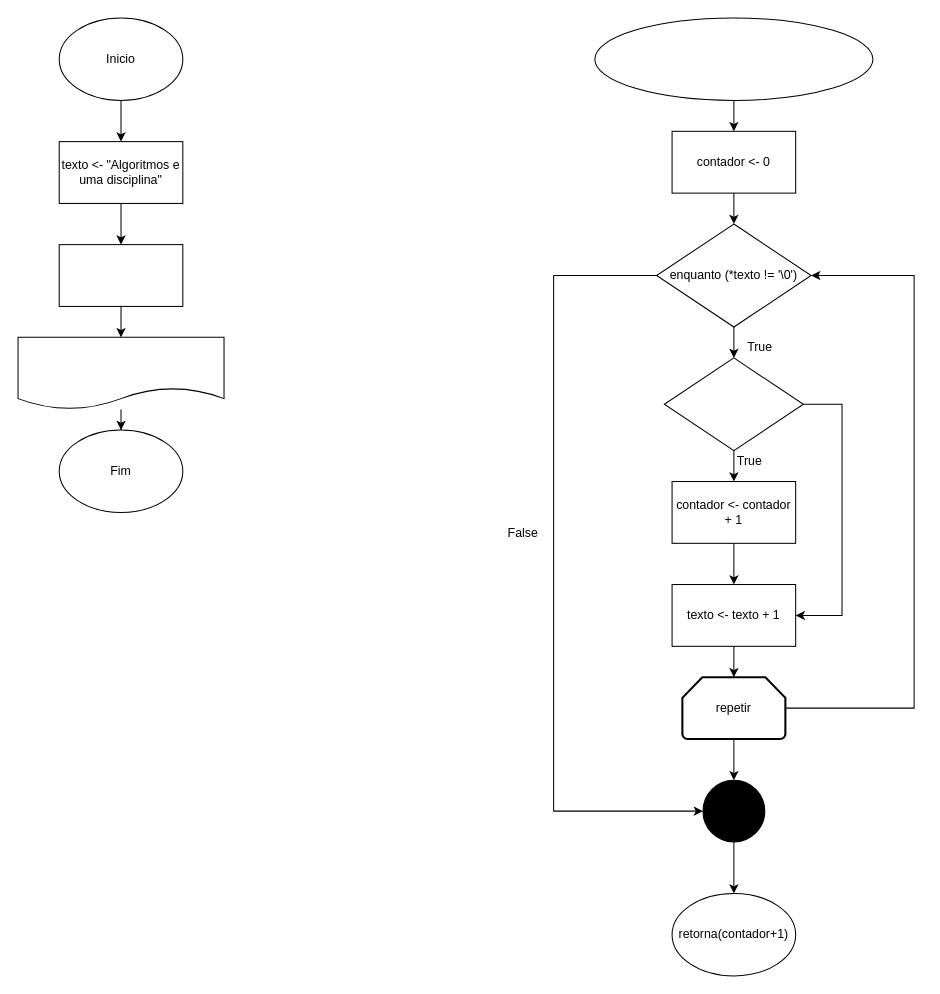
The diagram is 940 pixels wide and 994 high, and some of its shapes have lost their labels. The centre of each missing label's shape, as x and y in pixels:
"contaPalavras (texto: caracter, caracter: caracter)" goes at (x=733, y=58).
"escrever(contaPalavras(texto, letra))" goes at (x=120, y=372).
"letra <- ' '" goes at (x=120, y=275).
"se(*texto = caracter)" goes at (x=733, y=404).
